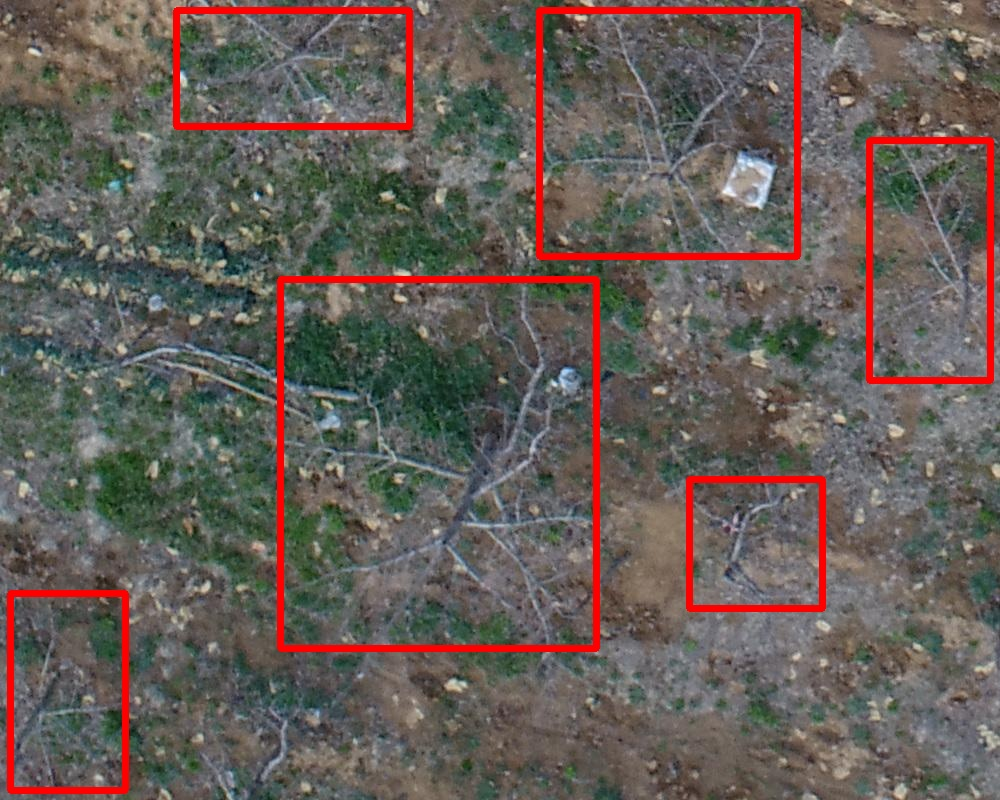apple: (280, 279, 596, 648), (539, 10, 797, 256), (869, 140, 990, 380), (176, 10, 409, 126), (10, 593, 125, 790), (689, 479, 822, 608)
